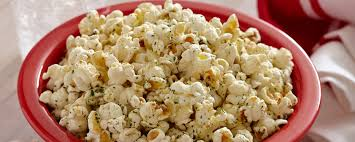popcorn: (37, 1, 304, 142)
